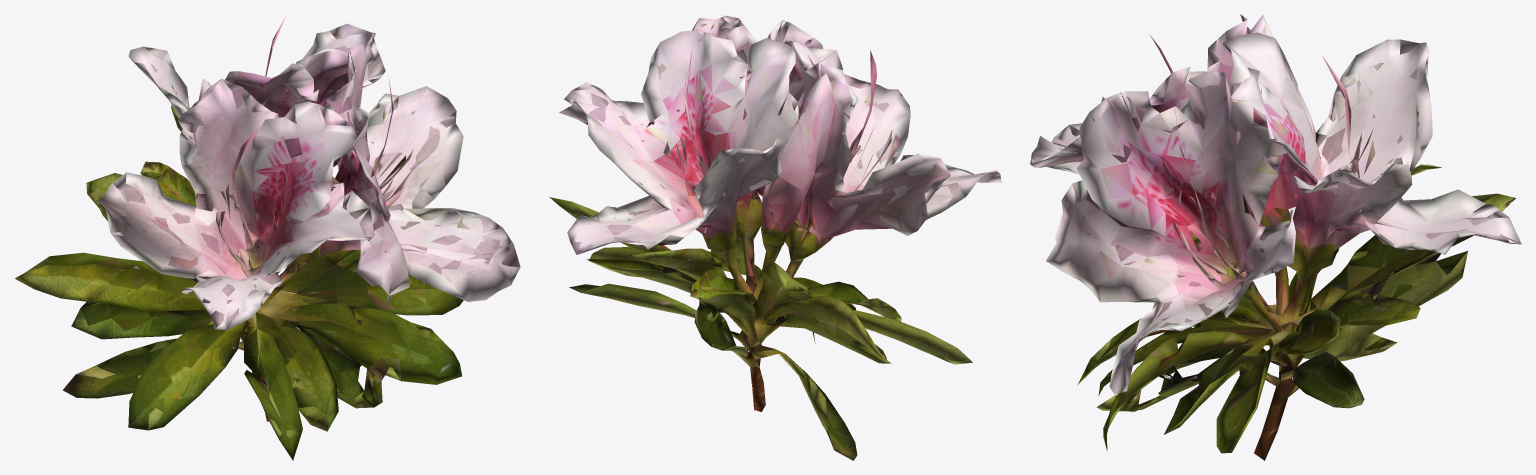
Rendered from azalea_lod0.glb.
3 renders of one model, left to right at view 1: azimuth 30°, elevation 25°; view 2: azimuth 150°, elevation 25°; view 3: azimuth 270°, elevation 25°, orthographic. The views are drawn at different scales.
Visible parts, largest first — view 1: AzaleaSprig; view 2: AzaleaSprig; view 3: AzaleaSprig.
Part boxes in pixels (bbox=[...]): AzaleaSprig: bbox=[15, 15, 520, 460]; AzaleaSprig: bbox=[549, 15, 1001, 460]; AzaleaSprig: bbox=[1030, 14, 1521, 460].
Bounding box in the file's own units: 0.1784 × 0.1674 × 0.1746.
Materials: 3 (3 with a texture image).
